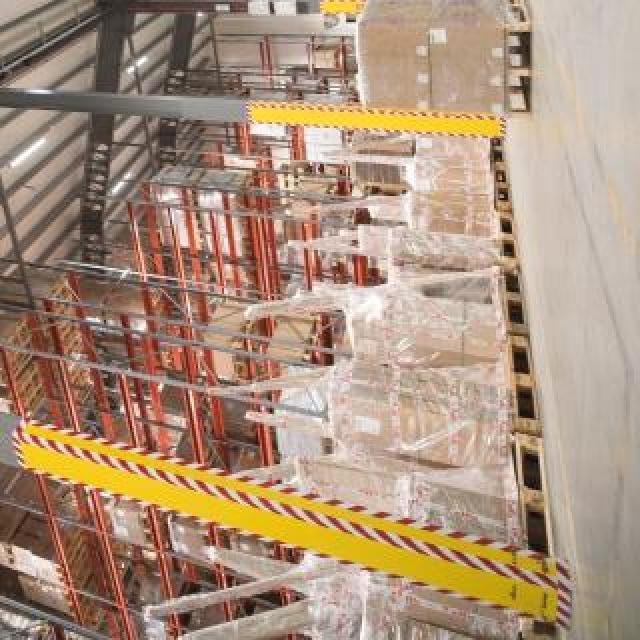fluorescent tube: (0, 122, 60, 196), (96, 165, 149, 213), (102, 45, 156, 83), (0, 0, 38, 14)
